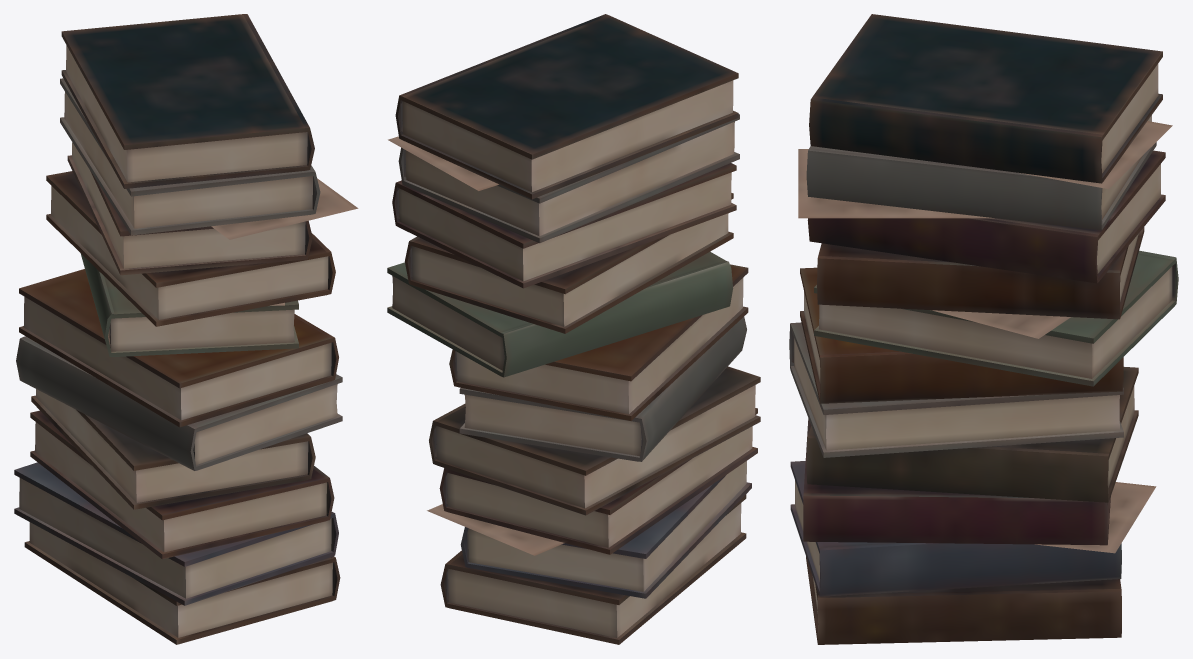
Rendered from book-pile-floor-large.lod1.glb.
3 views of the same model, side by side, from view 1: azimuth 30°, elevation 25°; view 2: azimuth 150°, elevation 25°; view 3: azimuth 270°, elevation 25° (orthographic). The views are drawn at different scales.
Parts seen in each view (by area): view 1: book-pile-floor-large; view 2: book-pile-floor-large; view 3: book-pile-floor-large.
Boxes of the visible parts, bbox=[...] form: book-pile-floor-large: bbox=[14, 14, 358, 644]; book-pile-floor-large: bbox=[387, 14, 760, 644]; book-pile-floor-large: bbox=[789, 14, 1178, 644].
Bounding box in the file's own units: 0.2505 × 0.4524 × 0.3004.
Materials: 1 (1 with a texture image).
